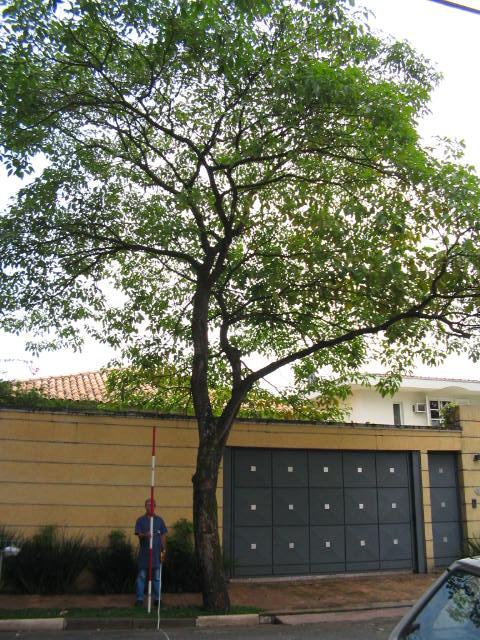crown: (3, 1, 478, 424)
stem: (174, 438, 250, 612)
stick: (141, 426, 163, 612)
tree: (1, 1, 480, 615)
